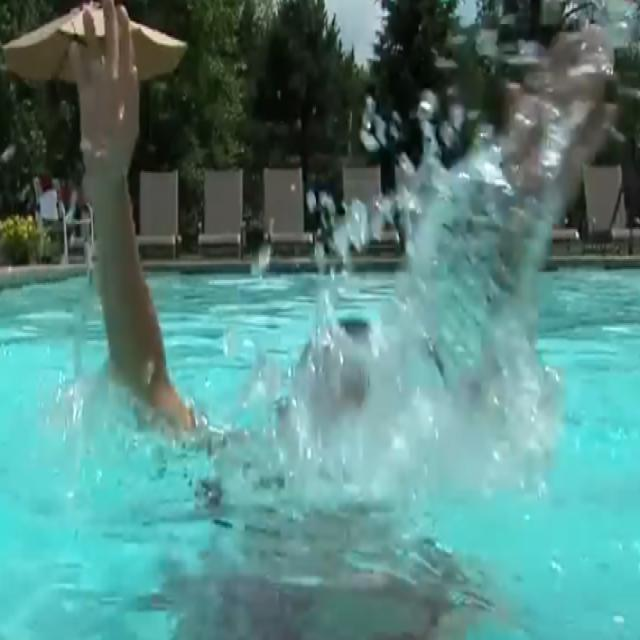Drowning: (47, 6, 618, 623)
